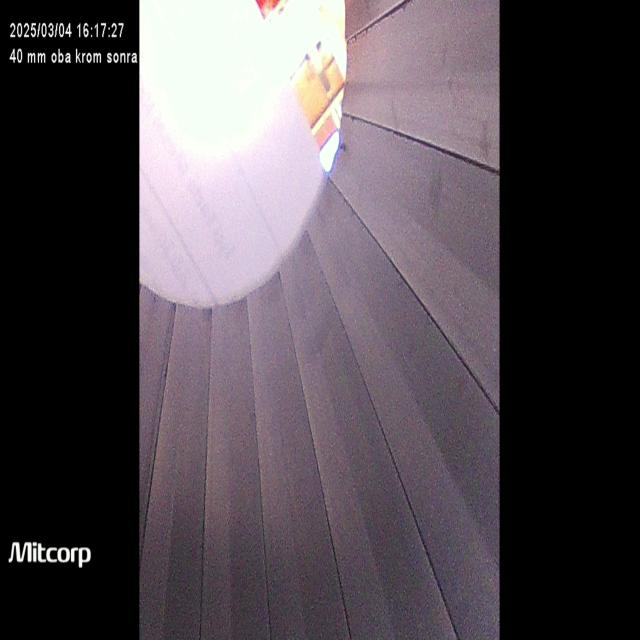hata_4.2: (374, 80, 413, 150), (418, 162, 454, 233), (434, 40, 462, 104), (474, 116, 498, 169), (337, 142, 351, 164)
